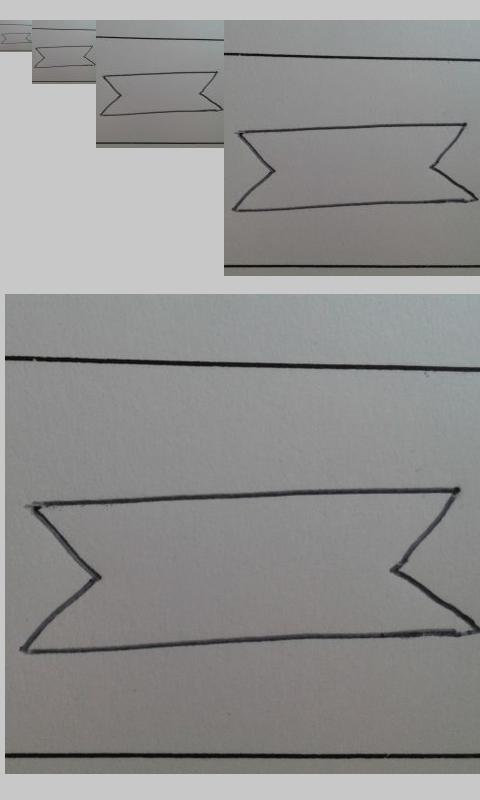edit_text: (20, 486, 479, 659), (233, 119, 478, 217), (100, 71, 221, 117), (33, 45, 96, 69), (1, 32, 31, 45)
